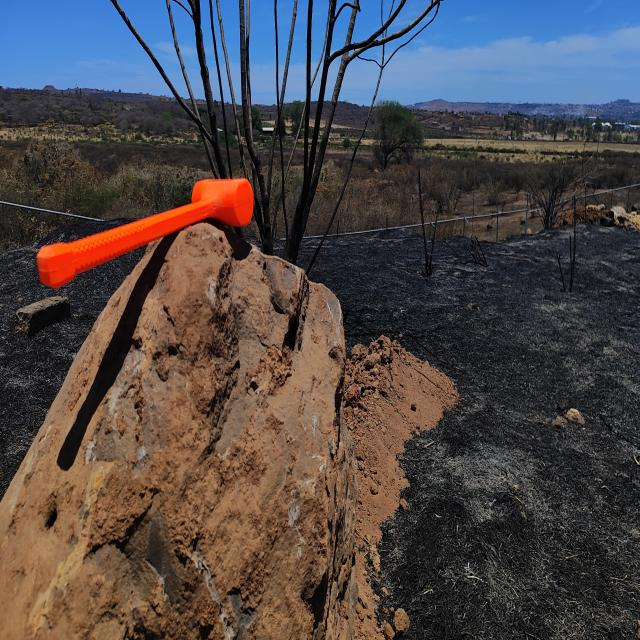Orange_hammer: (36, 175, 255, 290)
rock: (0, 218, 350, 640)
